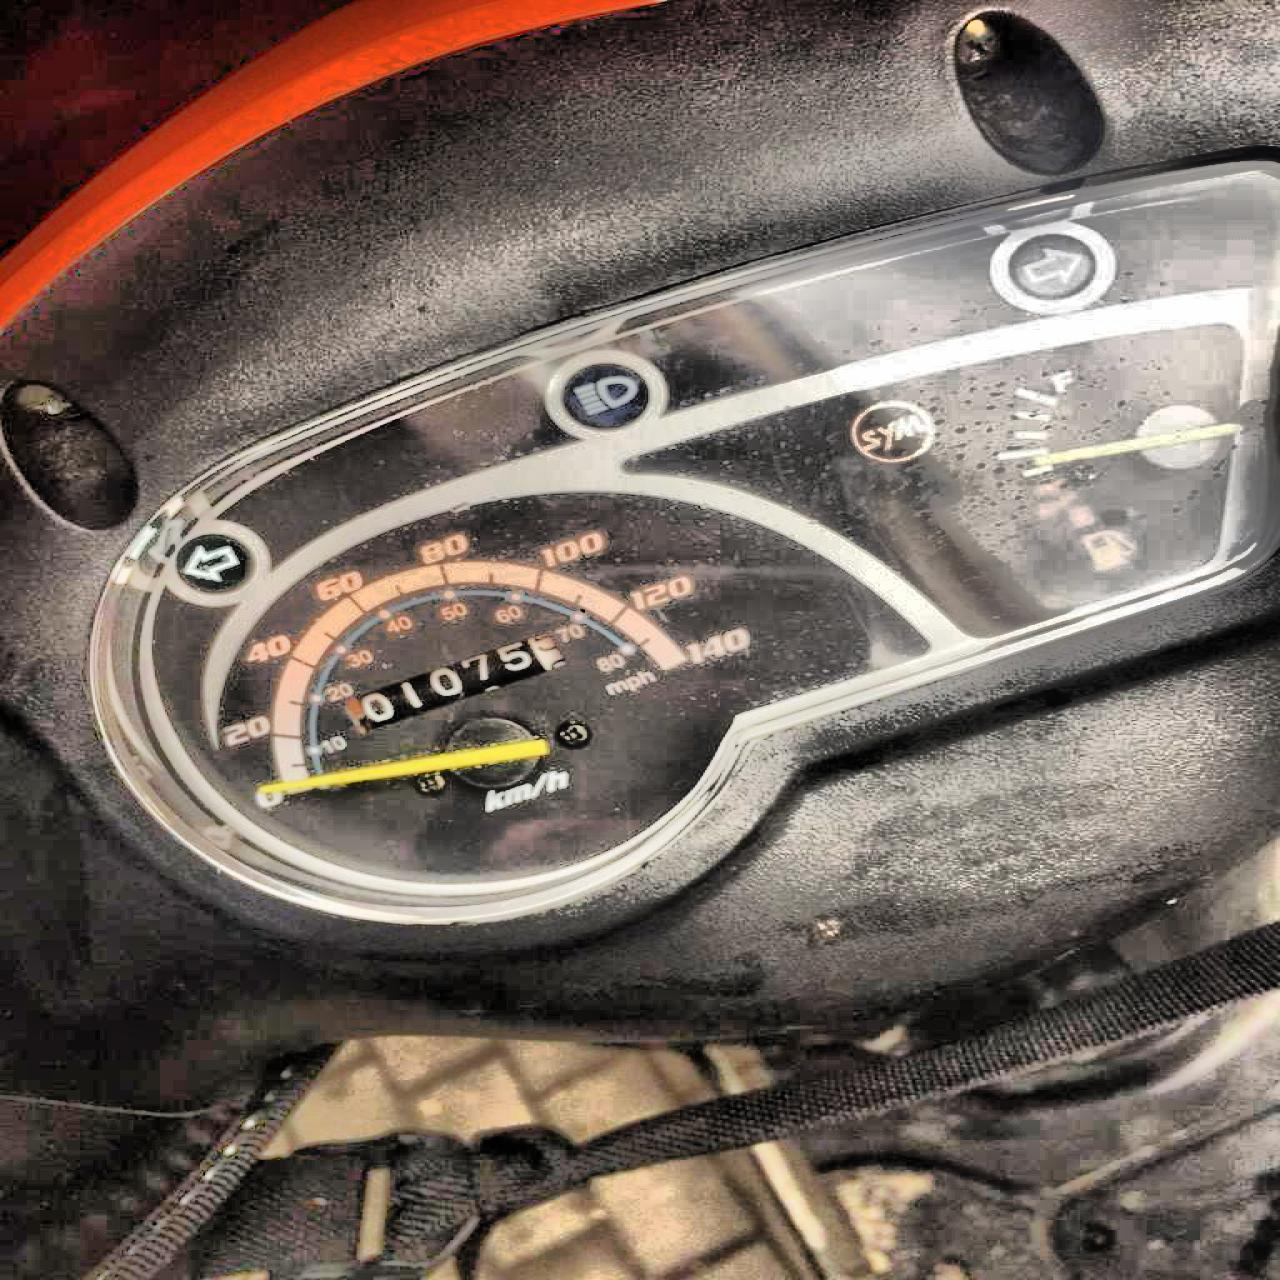0: (428, 665, 462, 696), (359, 693, 394, 720), (356, 647, 372, 662), (336, 682, 350, 695)
1: (399, 680, 423, 709)
3: (343, 653, 359, 667)
5: (495, 640, 530, 670), (531, 629, 557, 651)
7: (459, 652, 490, 680), (553, 627, 570, 642)
odometer: (333, 627, 570, 736)
